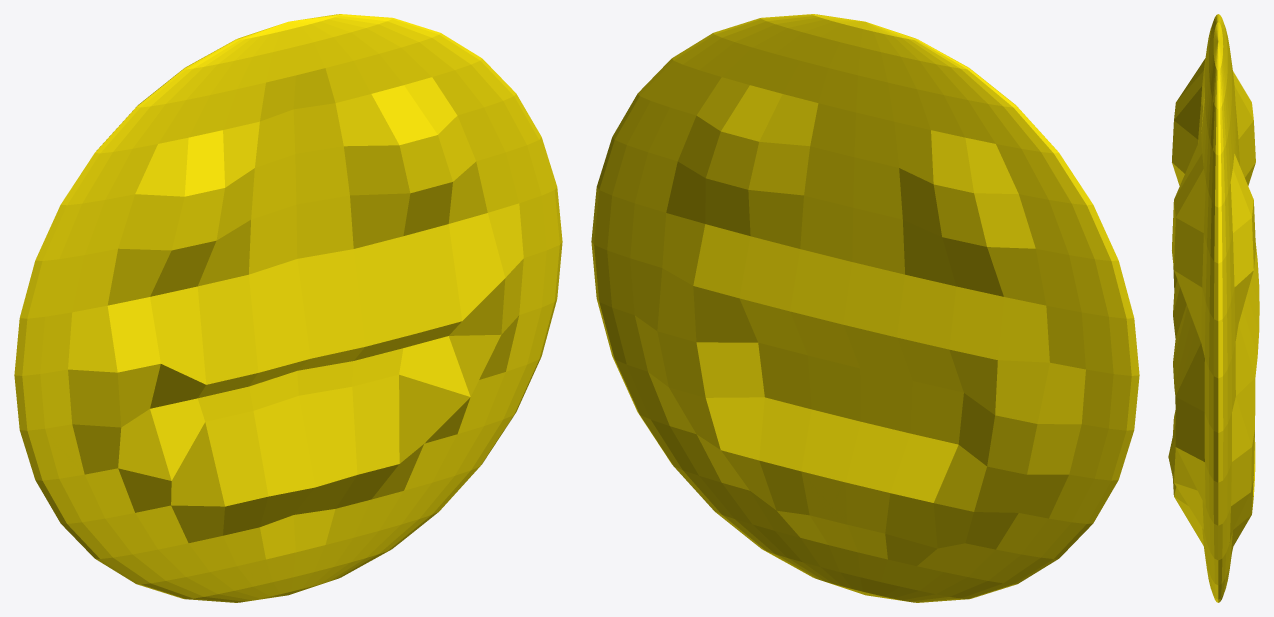
The model's file is Монета.fbx.
3 renders of one model, left to right at view 1: azimuth 30°, elevation 25°; view 2: azimuth 150°, elevation 25°; view 3: azimuth 270°, elevation 25°, orthographic. The views are drawn at different scales.
Visible parts, largest first — view 1: Sphere; view 2: Sphere; view 3: Sphere.
Boxes of the visible parts, box(x1,y1,x2,y2) form: Sphere: box(14, 14, 562, 602); Sphere: box(591, 14, 1139, 602); Sphere: box(1168, 14, 1259, 602).
Size of the model in its own units: 200 by 200 by 30.96.
